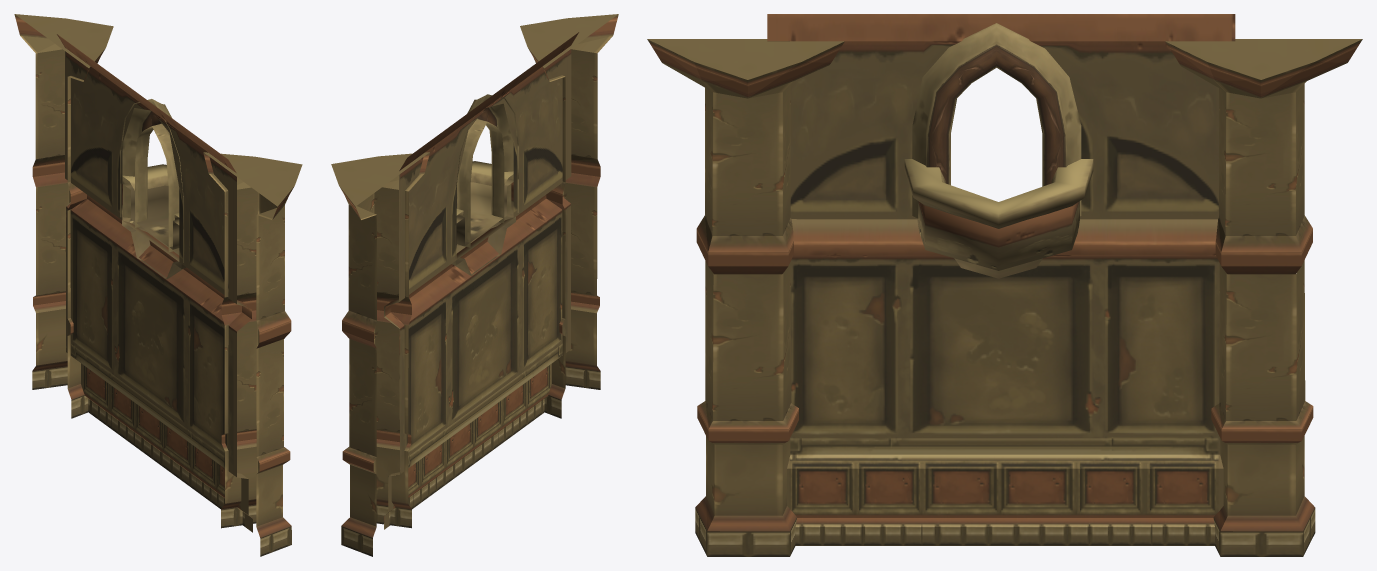
Rendered from wall big 2.FBX.
The picture shows the model from 3 angles, left to right: view 1: azimuth 30°, elevation 25°; view 2: azimuth 150°, elevation 25°; view 3: azimuth 270°, elevation 25°; orthographic projection. The views are drawn at different scales.
Parts seen in each view (by area): view 1: wall big 2; view 2: wall big 2; view 3: wall big 2.
Boxes of the visible parts, x1,y1,x2,y2 form: wall big 2: (14, 14, 302, 556); wall big 2: (331, 14, 618, 556); wall big 2: (647, 14, 1362, 556).
Size of the model in its own units: 260 by 989 by 1244.
